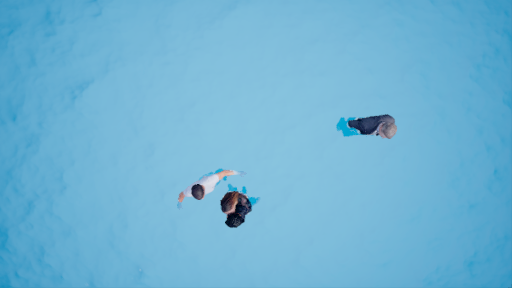person: (333, 98, 407, 142), (170, 155, 240, 200), (211, 187, 272, 232)
